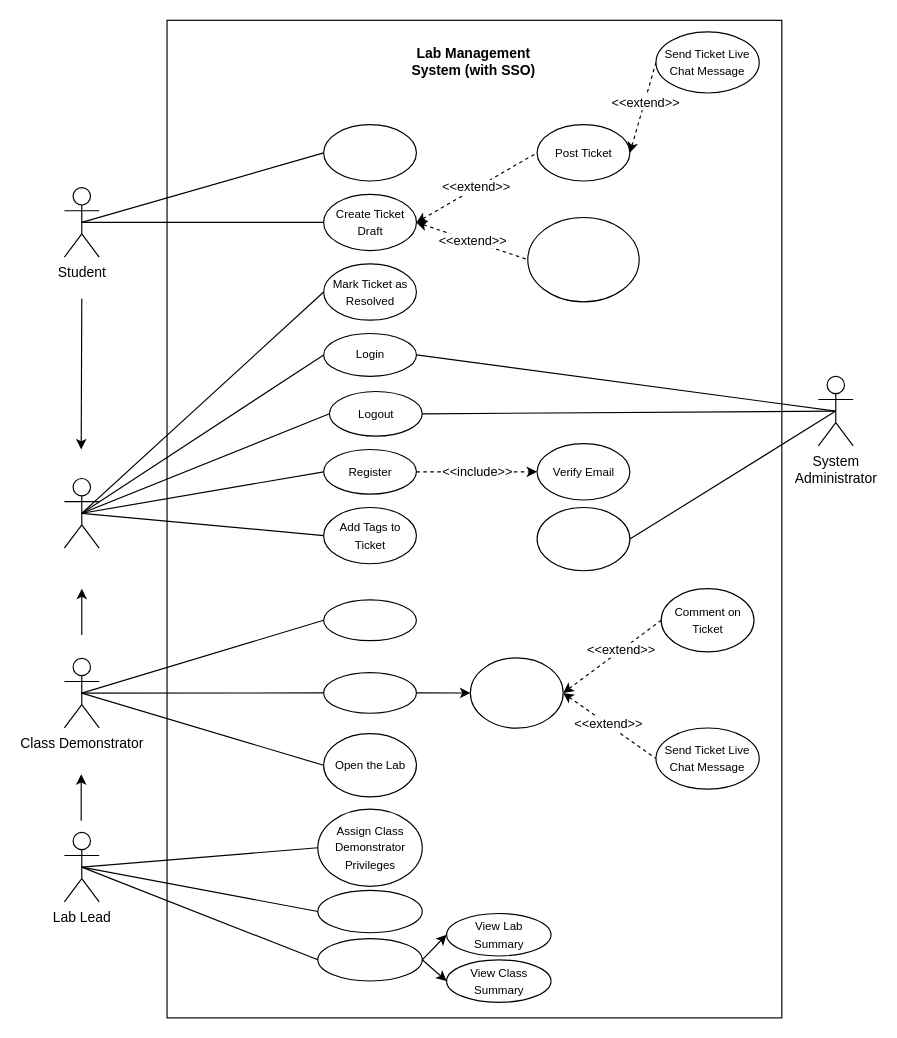
Image size: 897x1038. Some labels were removed from this diagram. The shapes that lost their labels are listed below. From the top down, each one's centre as x and y in pixels, then its label:
(369,152): Edit Live Ticket
(583,259): Select Archived Ticket - 'This solved my problem.'
(81,512): User
(583,538): Assign Lab Lead Privileges
(369,620): Create Ticket Solution
(369,692): View Tickets
(516,692): Assign Ticket Demonstrator
(369,911): Suspend User
(369,959): View Summary
